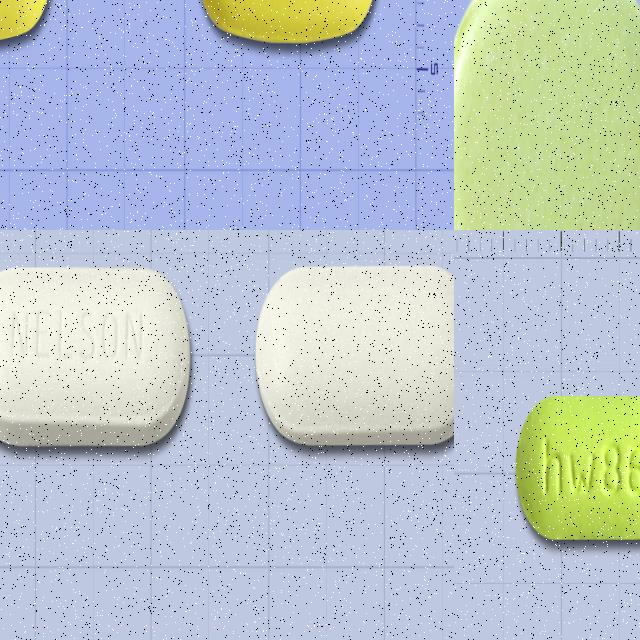Azaprine -25mg: (454, 0, 640, 230)
Ciproctan: (0, 257, 198, 455), (251, 260, 454, 453)
Clabicks: (193, 0, 383, 51)
Clarithin: (512, 390, 640, 548)
